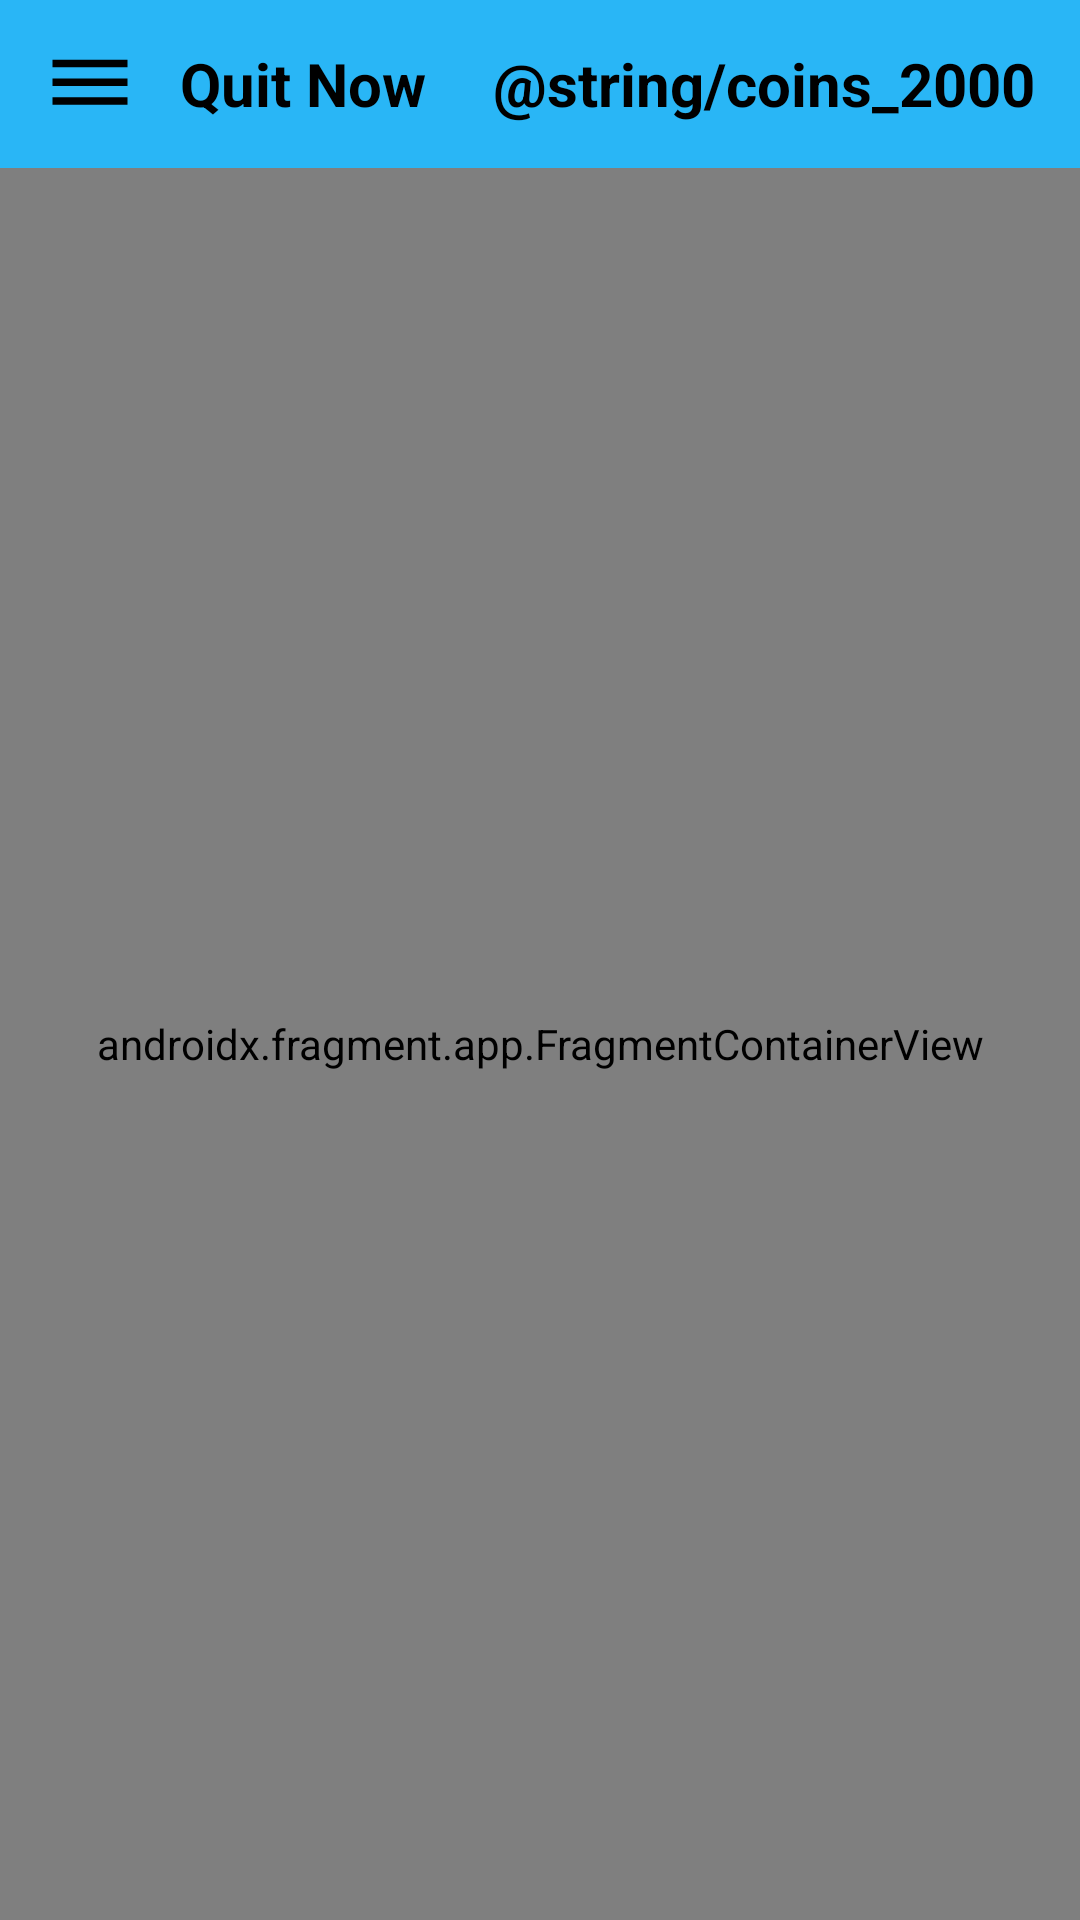

Icon bounding boxes for this 1080px×1920px phone screenshot, format {"left": x1, "top": y1, "right": x2, "bottom": y2}:
menu: {"left": 52, "top": 59, "right": 128, "bottom": 105}
